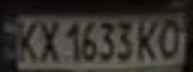1: (60, 19, 81, 62)
3: (115, 17, 139, 62), (97, 18, 118, 63)
6: (78, 18, 100, 63)
K: (133, 17, 166, 61), (12, 17, 42, 64)
O: (151, 16, 187, 60)
X: (33, 17, 63, 63)
